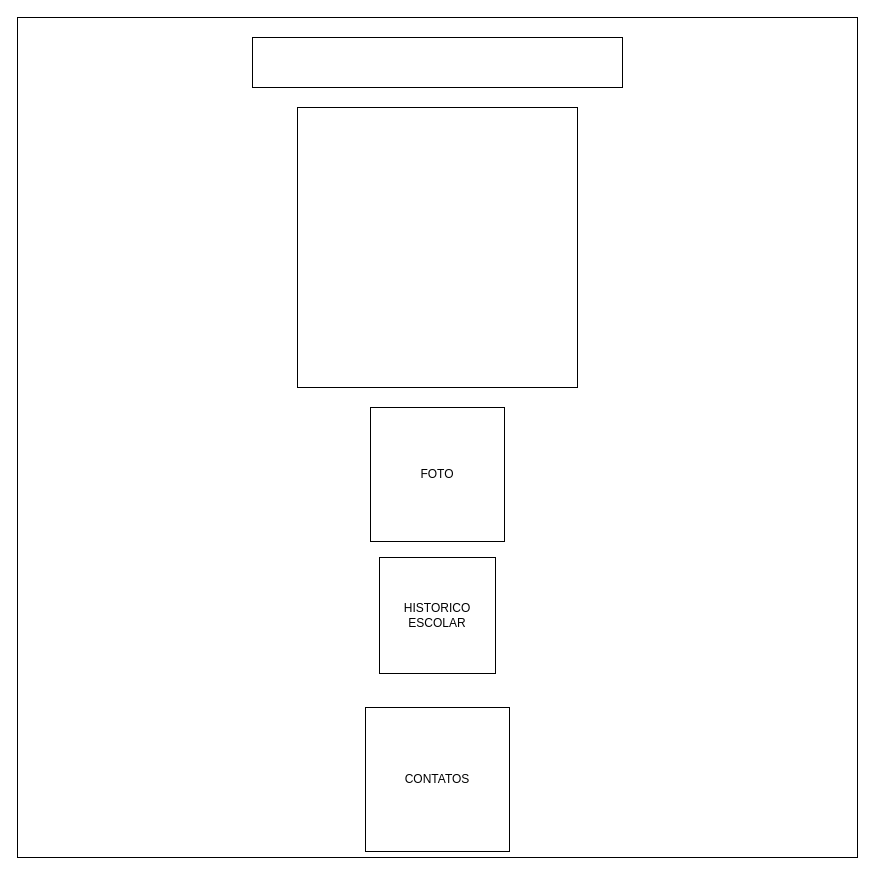
The diagram is 875 pixels wide and 883 high, and some of its shapes have lost their labels. The centre of each missing label's shape, as x and y in pixels:
"TEXTO" belongs at point 437,247.
"TITULO" belongs at point 437,62.
